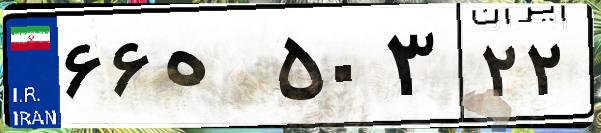0: (330, 28, 385, 110)
2: (475, 38, 525, 113), (525, 38, 570, 115)
3: (385, 28, 445, 110)
5: (270, 28, 330, 110)
6: (57, 26, 110, 100), (110, 28, 158, 98)
ه: (158, 20, 270, 120)
